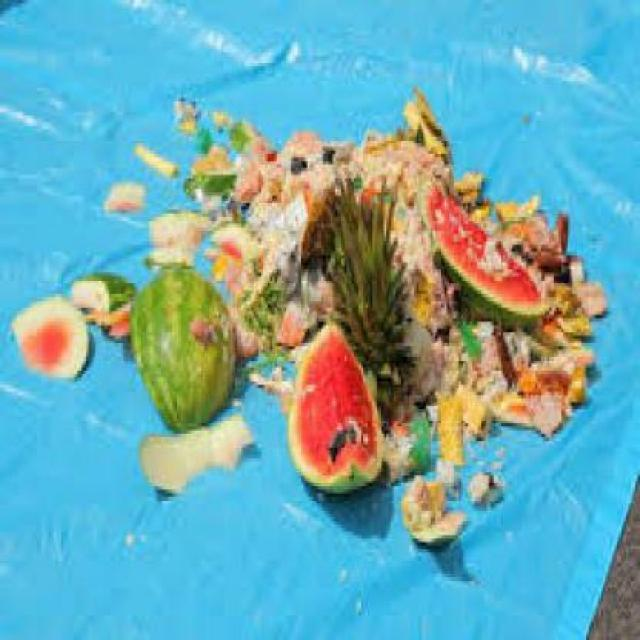garbage: (9, 80, 619, 559)
